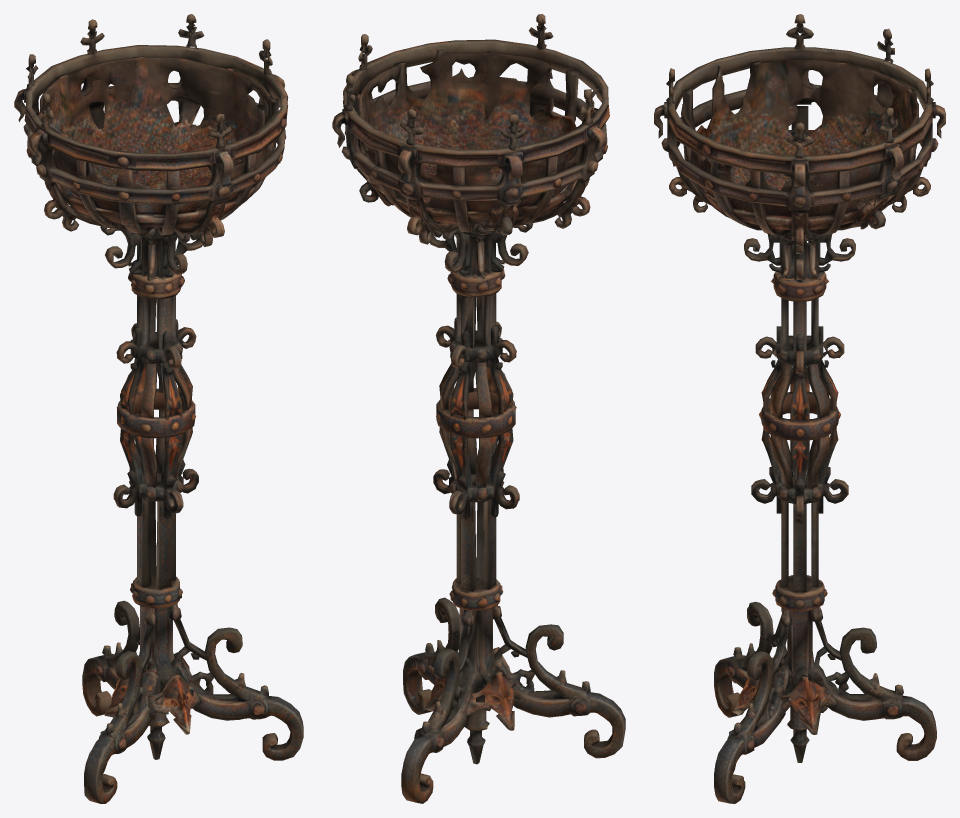
File: barzier.glb
3 views of the same model, side by side, from view 1: azimuth 30°, elevation 25°; view 2: azimuth 150°, elevation 25°; view 3: azimuth 270°, elevation 25° (orthographic).
Parts seen in each view (by area): view 1: tripo_node_62f8df32-3a60-4e95-9000-bf088701ca81; view 2: tripo_node_62f8df32-3a60-4e95-9000-bf088701ca81; view 3: tripo_node_62f8df32-3a60-4e95-9000-bf088701ca81.
Boxes of the visible parts, x1,y1,x2,y2 form: tripo_node_62f8df32-3a60-4e95-9000-bf088701ca81: (14,14,303,803); tripo_node_62f8df32-3a60-4e95-9000-bf088701ca81: (332,14,625,803); tripo_node_62f8df32-3a60-4e95-9000-bf088701ca81: (654,14,945,803).
Size of the model in its own units: 0.3742 by 0.9806 by 0.3742.
Materials: 1 (1 with a texture image).
